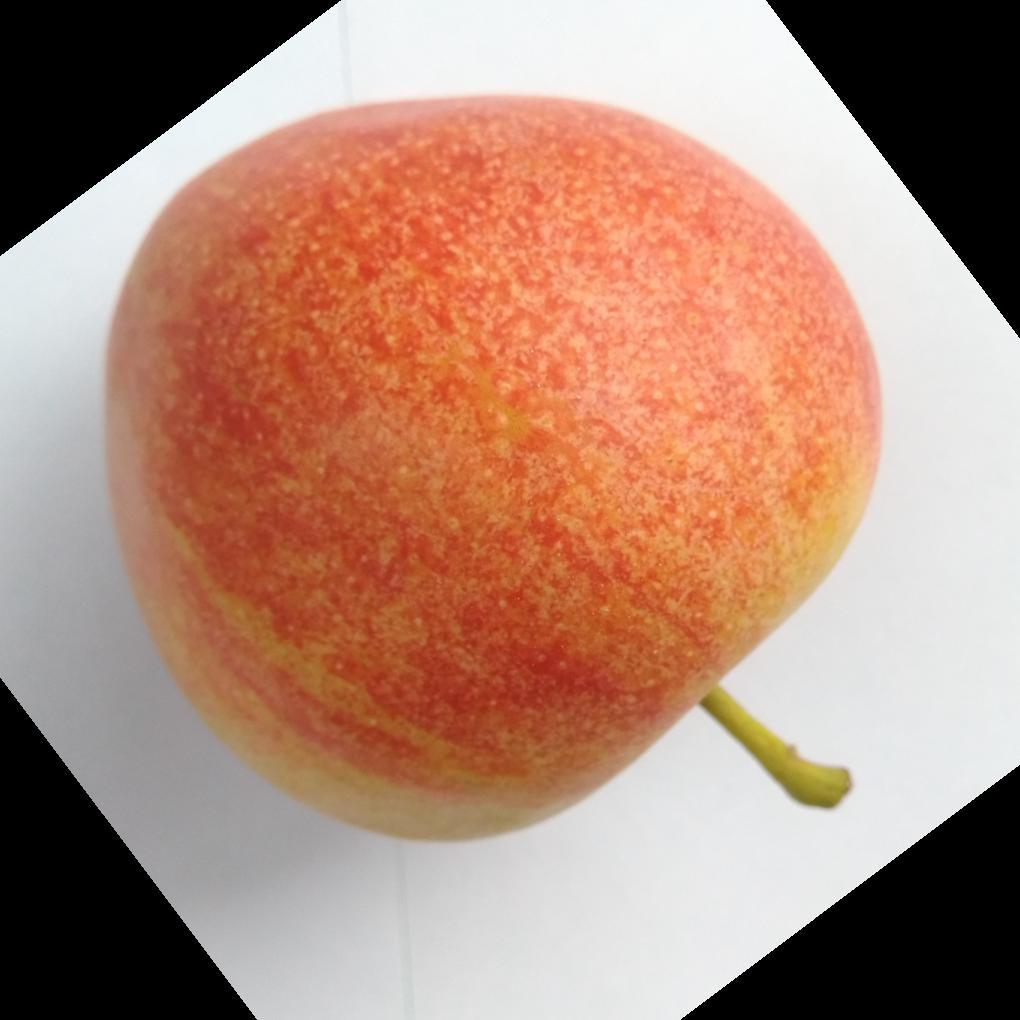FreshGuava: (99, 94, 884, 847)
